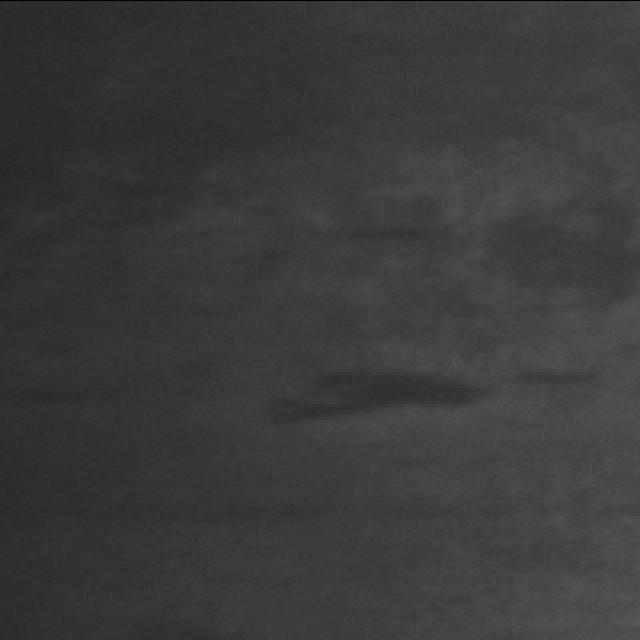inclusion: (257, 353, 502, 429)
